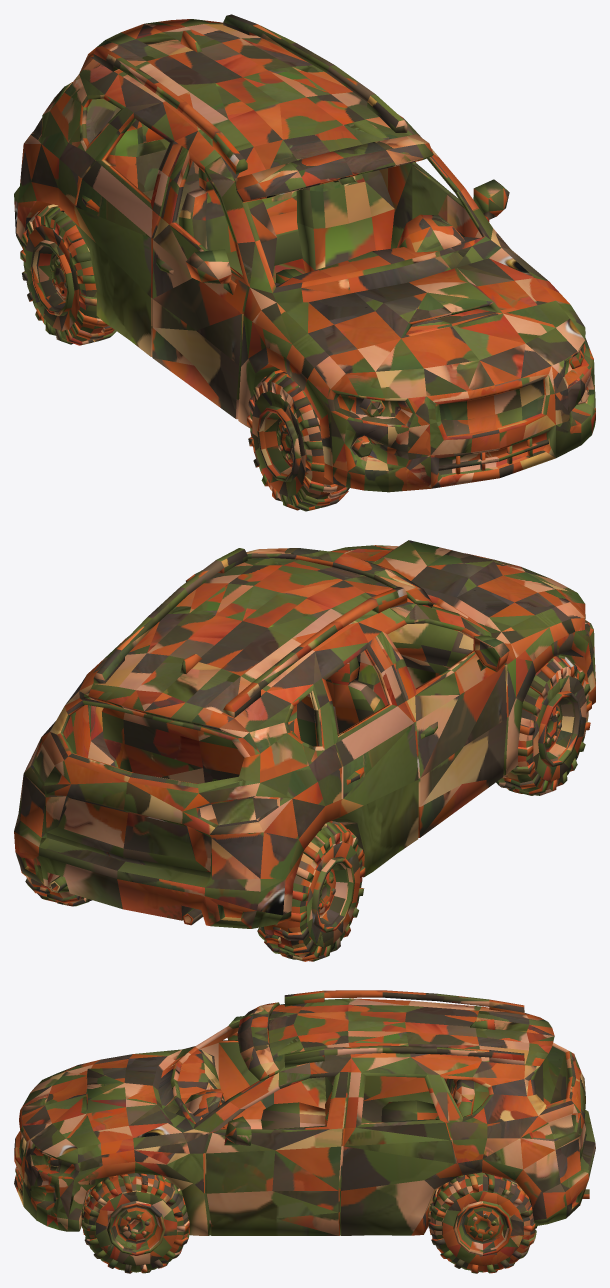
File: CarMedium_new.fbx
3 views of the same model, one above another, from view 1: azimuth 30°, elevation 25°; view 2: azimuth 150°, elevation 25°; view 3: azimuth 270°, elevation 25° (orthographic). The views are drawn at different scales.
Parts seen in each view (by area): view 1: car, wheel_1, wheel_4; view 2: car, wheel_4, wheel_1, wheel_3; view 3: car, wheel_2, wheel_3.
Boxes of the visible parts, <box> form: car: <box>14,14,595,492</box>; wheel_1: <box>247,370,349,511</box>; wheel_4: <box>20,204,116,345</box>; car: <box>14,540,595,928</box>; wheel_4: <box>257,821,365,961</box>; wheel_1: <box>496,655,591,795</box>; wheel_3: <box>20,869,92,906</box>; car: <box>14,990,595,1235</box>; wheel_2: <box>81,1173,189,1273</box>; wheel_3: <box>428,1172,537,1273</box>.
Size of the model in its own units: 95.23 by 78.64 by 200.
